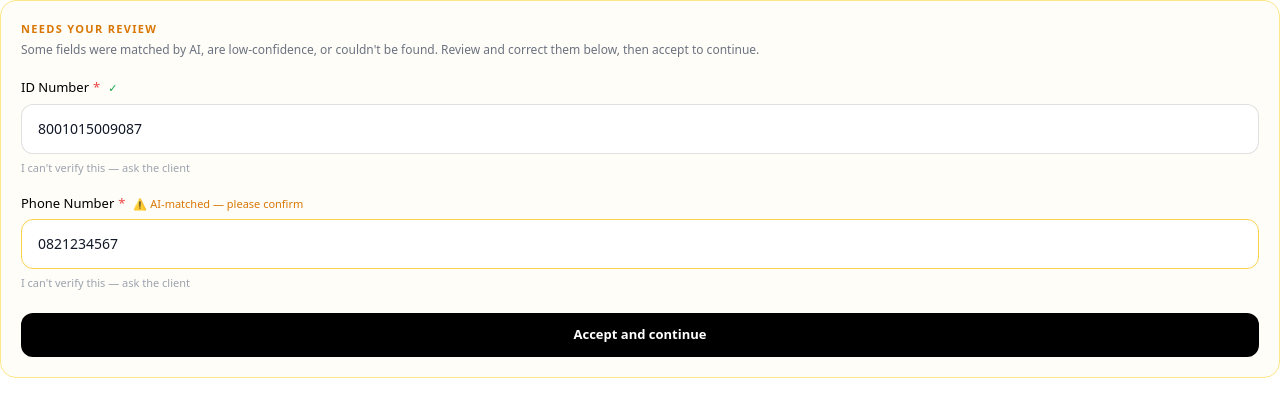
Test: PartialReviewPanel › surfaces server-side field errors on a 422 response
The image size is (1280, 419).
Click the button "Accept and continue". click: (640, 335)
box: x1=21 y1=313 x2=1259 y2=356
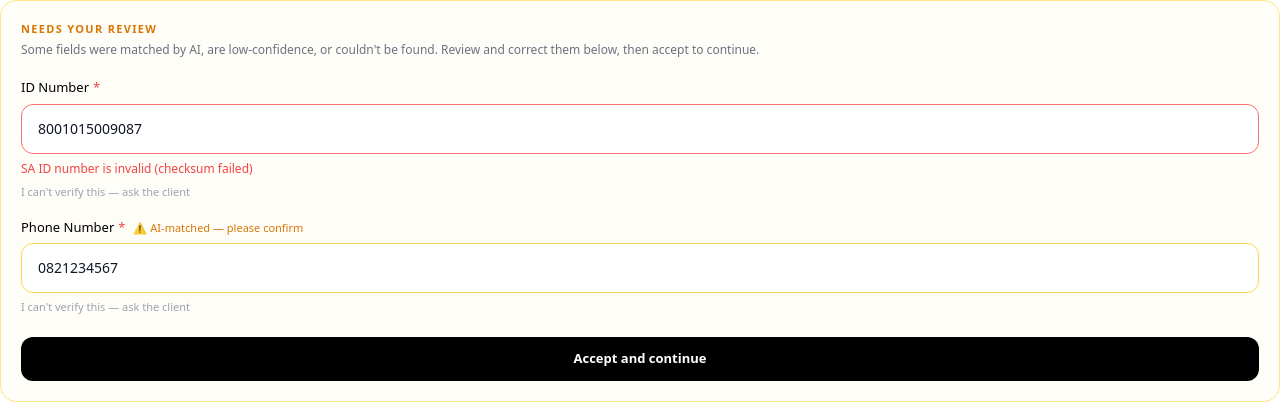
Now the text "SA ID number is invalid (checksum failed)" is shown, box x1=21 y1=160 x2=253 y2=176
